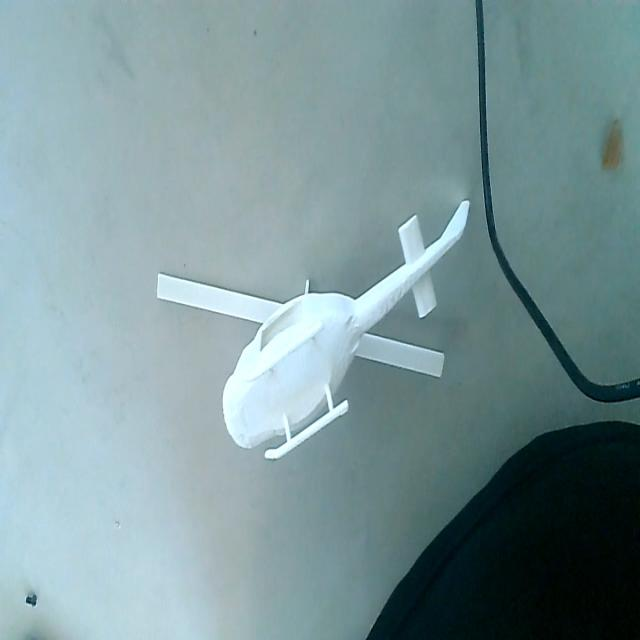Helicopter: (153, 199, 475, 462)
